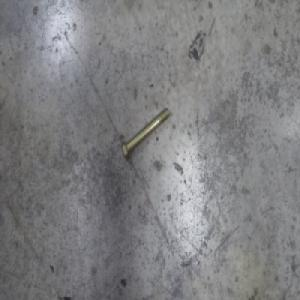Bolt: (121, 105, 171, 162)
